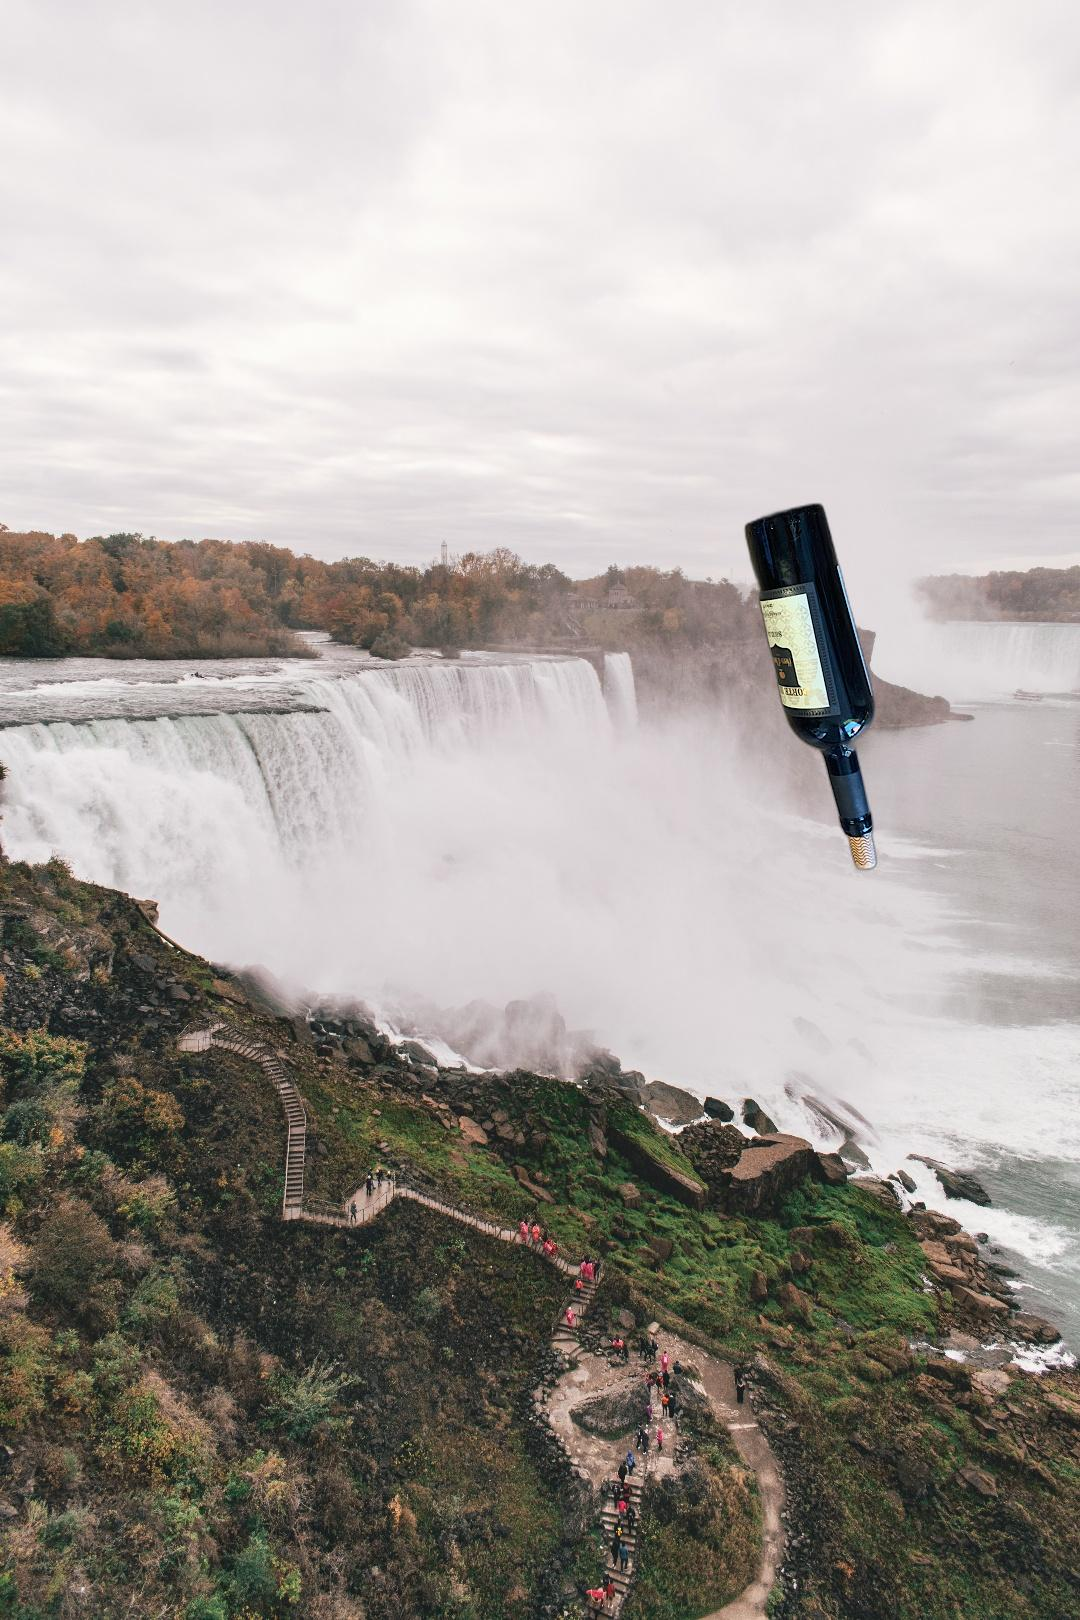glass: (740, 497, 880, 875)
